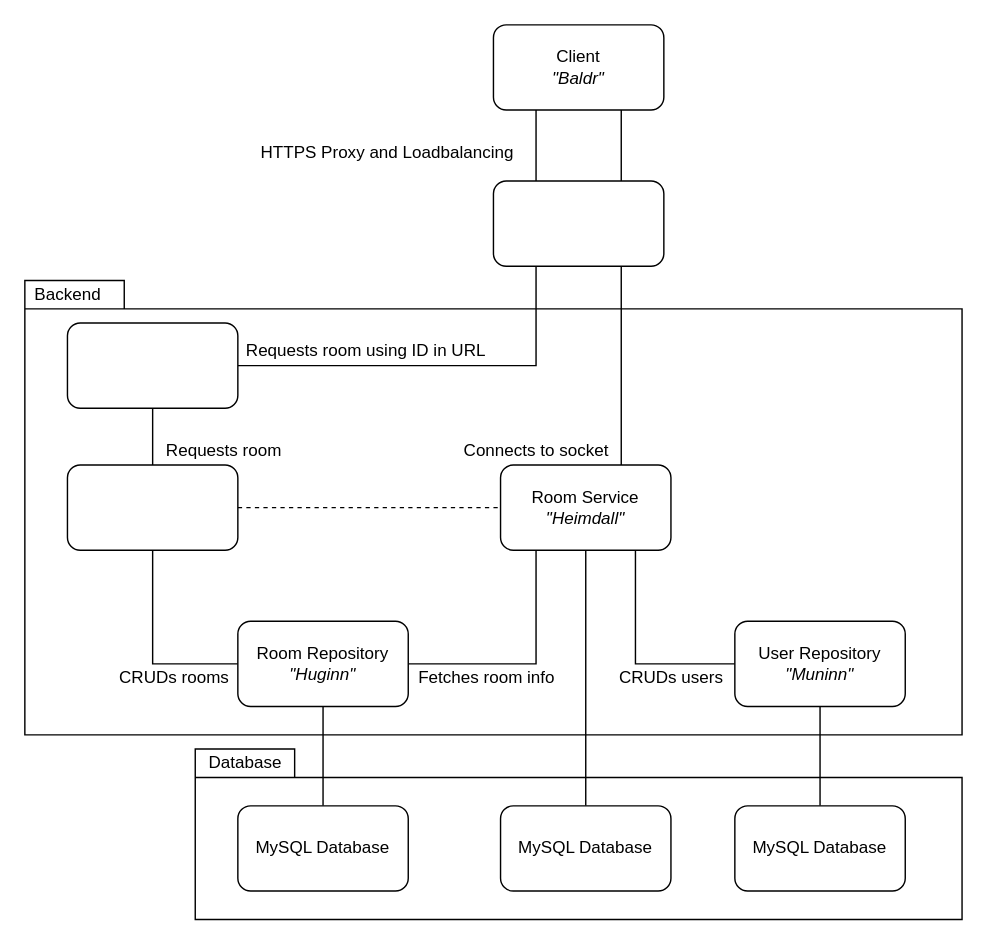
The diagram is 987 pixels wide and 944 high, and some of its shapes have lost their labels. Here are the shapes that lost their labels. From the top down, the centre of each, then its label:
(578,223): Kubernetes Ingress
(152,365): Main Controller "Yggdrasil"
(152,507): Room Manager "Odin"
